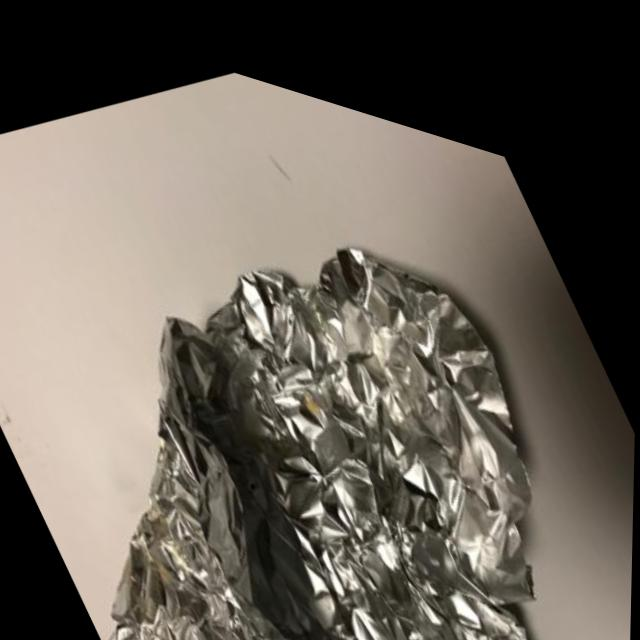metal: (0, 60, 639, 640)
